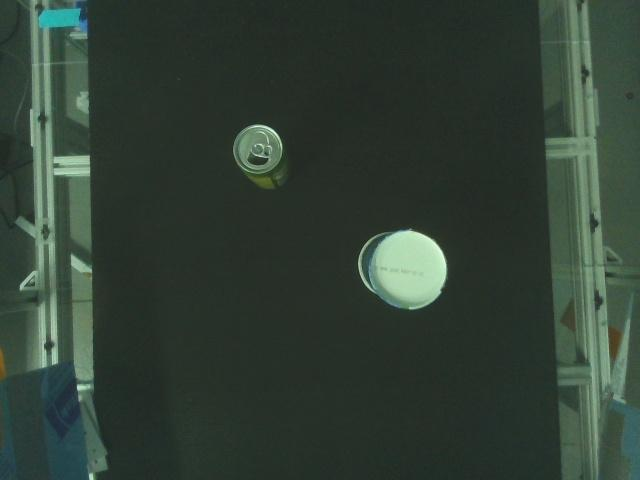cardboard: (358, 228, 449, 311)
metal: (234, 123, 292, 190)
